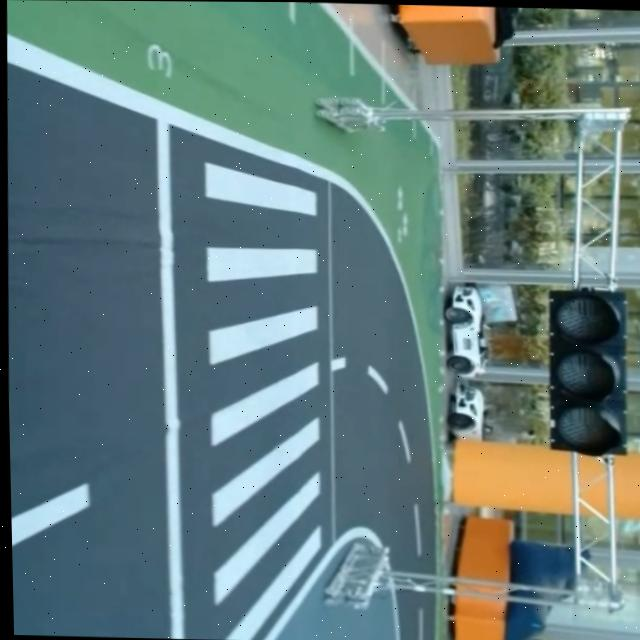traffic-light: (544, 279, 630, 460)
